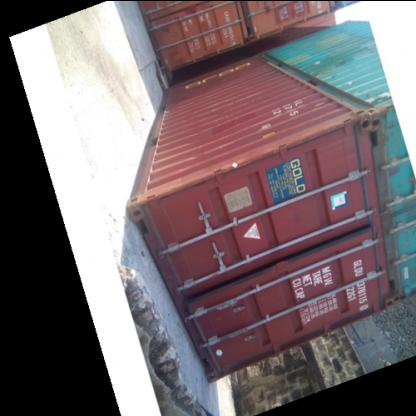Damage: (215, 136, 296, 168)
